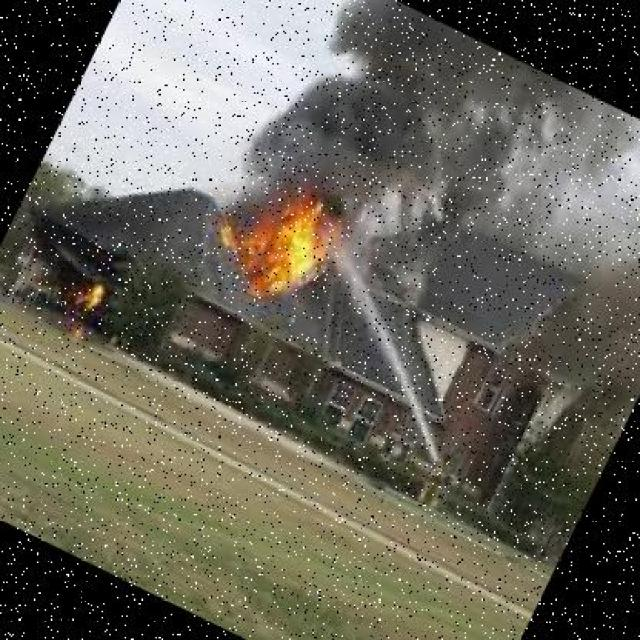fire: (198, 147, 368, 316), (56, 263, 124, 345)
